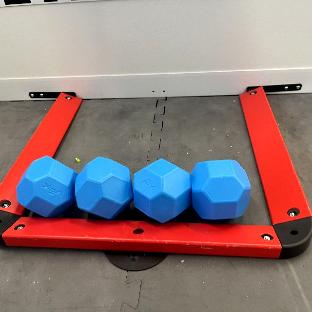V5_BLUE: (133, 159, 250, 222), (133, 159, 190, 222), (191, 159, 250, 219), (17, 156, 76, 216), (76, 157, 132, 218)
